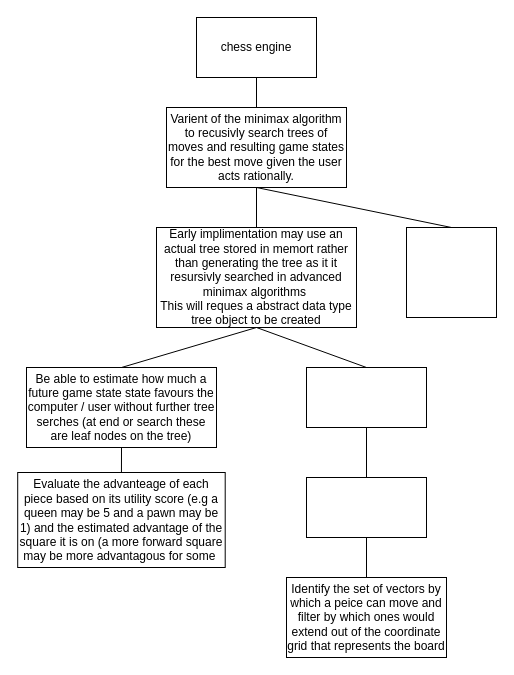
This 514x675 diagram has some shape labels left out. Each missing label, with the centre of its shape:
Identify all legal moves in current game state: [366,397]
Identify all legal moves that one piece can make: [366,507]
Tree traversal and serch methods will be required: [451,272]
